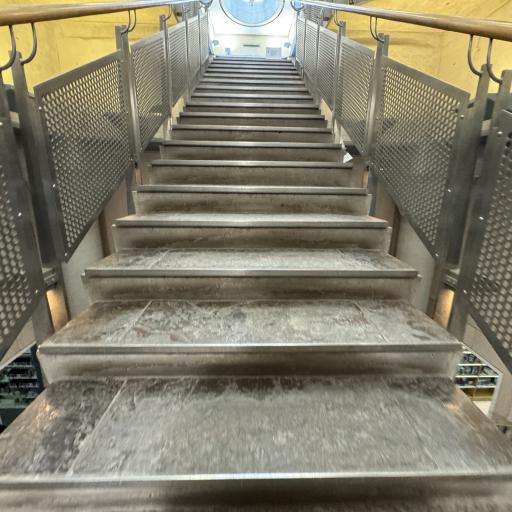Stairs: (0, 56, 512, 512), (39, 299, 460, 382), (83, 239, 418, 303), (149, 160, 362, 187), (160, 140, 344, 162), (172, 124, 334, 143), (173, 112, 327, 129), (183, 100, 321, 114)
